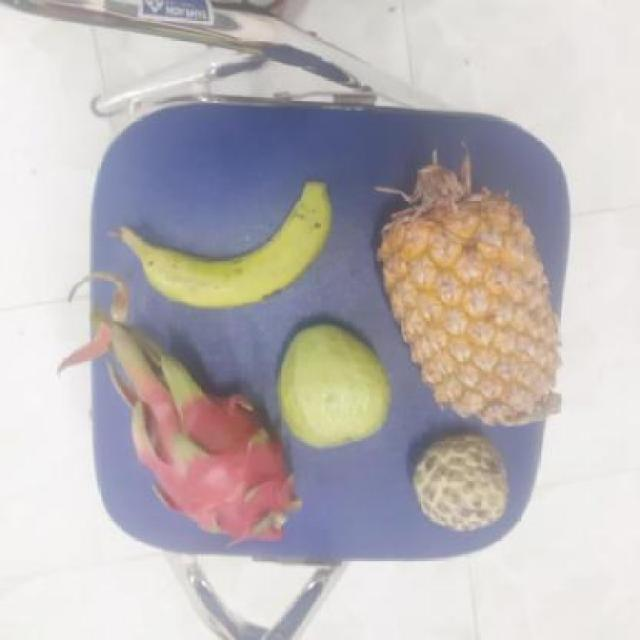banana: (114, 190, 328, 308)
dragon fruit: (136, 382, 295, 542)
guava: (272, 324, 390, 448)
pineapple: (374, 181, 554, 424)
sugar apple: (410, 436, 508, 529)
